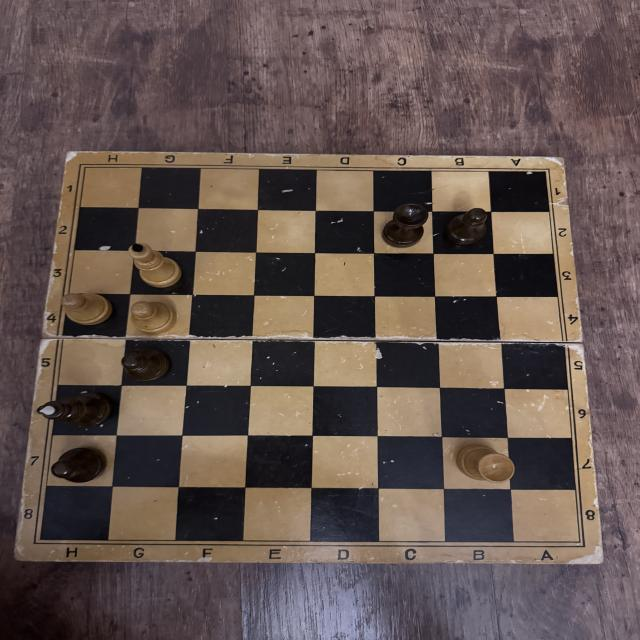black-king: (36, 392, 112, 430)
black-pawn: (50, 446, 109, 483), (441, 207, 493, 245), (119, 347, 172, 384)
black-rook: (380, 200, 432, 248)
white-king: (127, 242, 184, 290)
white-pawn: (61, 293, 115, 327), (130, 300, 175, 334)
white-rook: (456, 442, 520, 485)
